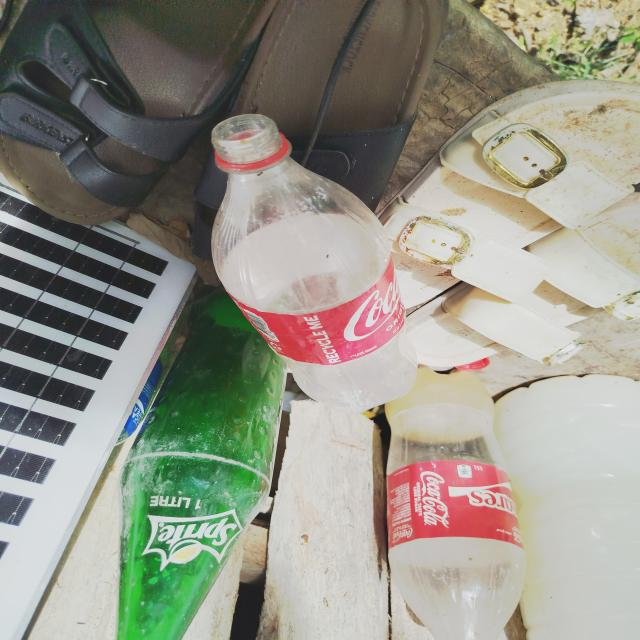glass: (102, 278, 282, 634)
plastic: (190, 93, 431, 413), (380, 365, 528, 640)
